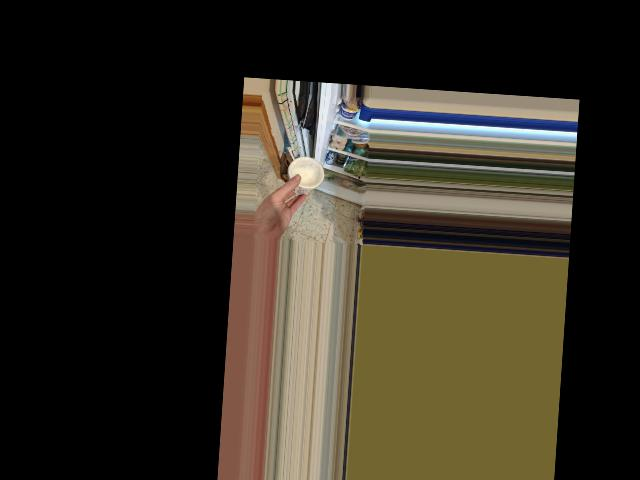cotage: (285, 158, 315, 194)
